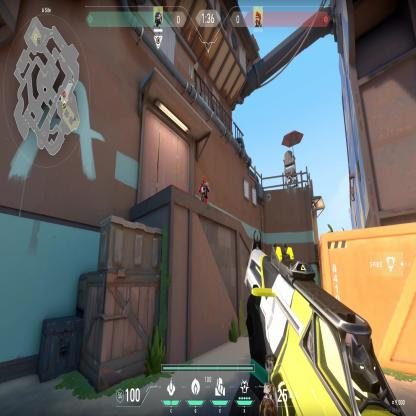enemy: (198, 174, 210, 206)
